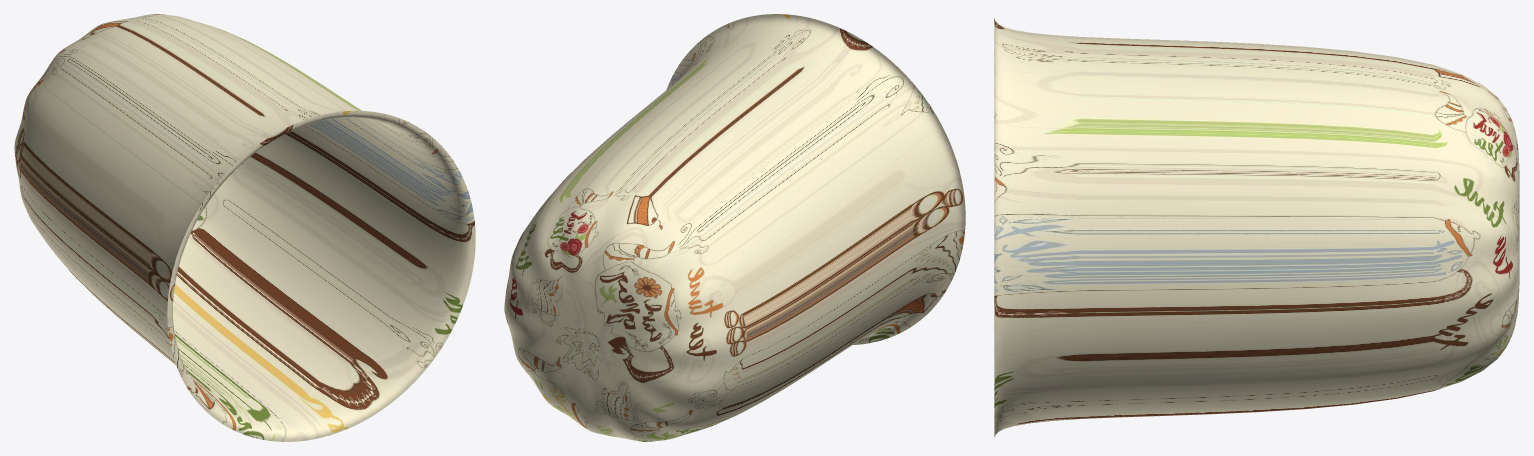
3 views of the same model, side by side, from view 1: azimuth 30°, elevation 25°; view 2: azimuth 150°, elevation 25°; view 3: azimuth 270°, elevation 25° (orthographic). The views are drawn at different scales.
Bounding box in the file's own units: 0.6708 × 0.6709 × 0.8234.
